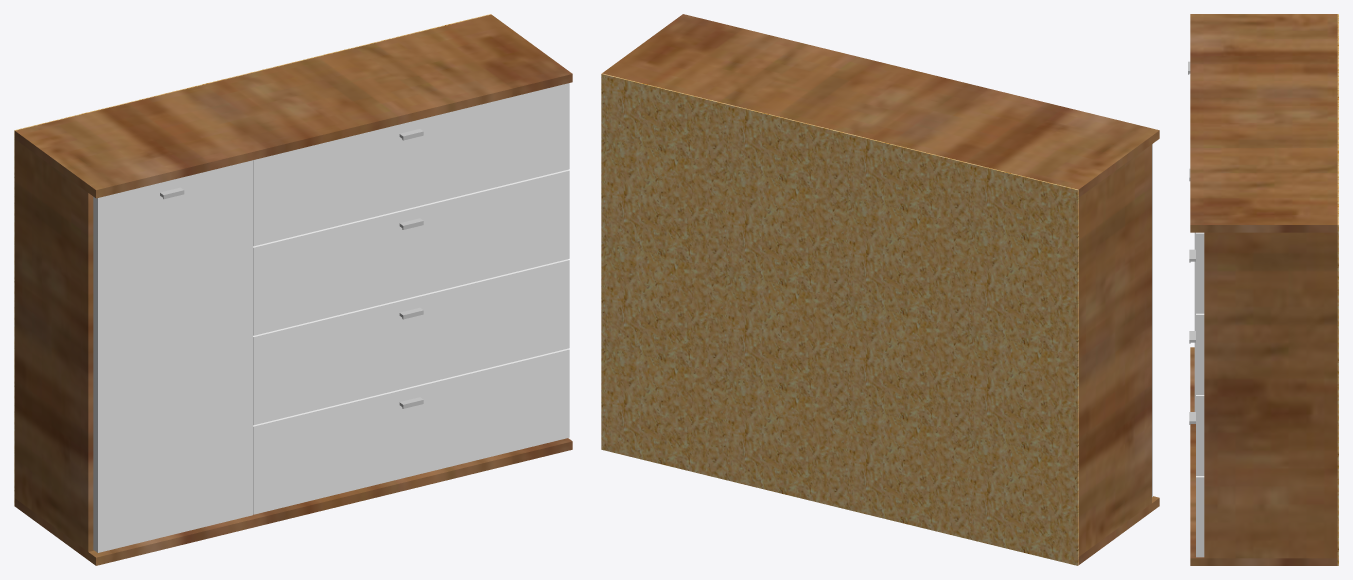
The model's file is chifonier_closed.glb.
The picture shows the model from 3 angles, left to right: view 1: azimuth 30°, elevation 25°; view 2: azimuth 150°, elevation 25°; view 3: azimuth 270°, elevation 25°; orthographic projection. The views are drawn at different scales.
Parts seen in each view (by area): view 1: furniture_chifonier_closed; view 2: furniture_chifonier_closed; view 3: furniture_chifonier_closed.
Part boxes in pixels (bbox=[...]): furniture_chifonier_closed: bbox=[14, 14, 572, 565]; furniture_chifonier_closed: bbox=[601, 14, 1159, 565]; furniture_chifonier_closed: bbox=[1188, 14, 1338, 565].
Size of the model in its own units: 1.19 by 0.9 by 0.3606.
9 materials, 4 textured.
